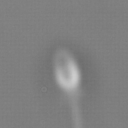normal: (61, 91, 93, 128)
